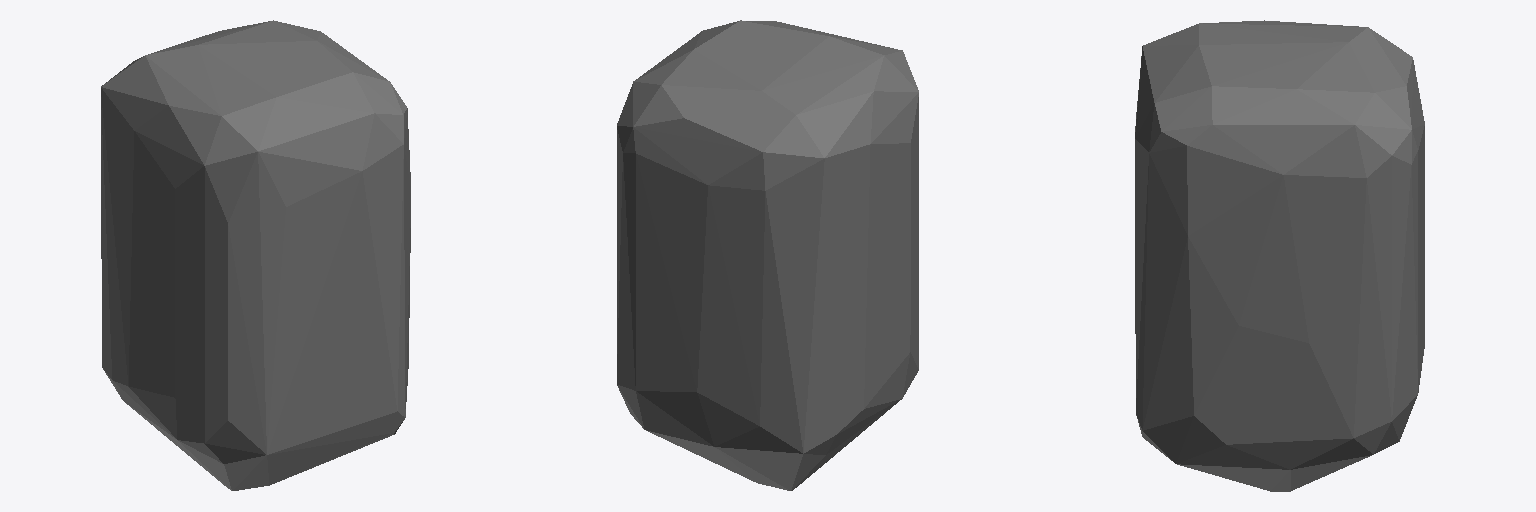
The robot description file, URDF, robot "toy_005":
<?xml version="1.0" ?>
<robot name="toy_005">
  <material name="color">
    <color rgba=".5 .5 .5 1"/>
  </material>

  <link name="base_link">
    <contact>
      <lateral_friction value="1.0"/>
      <rolling_friction value="0.001"/>
      <spinning_friction value="0.001"/>
      <inertia_scaling value="1.0"/>
    </contact>
    <inertial>
      <origin rpy="0 0 0" xyz="9.9687e-05 -0.000126288 0.0769841"/>
       <mass value="0.1"/>
       <inertia ixx="1" ixy="0" ixz="0" iyy="1" iyz="0" izz="1"/>
    </inertial>

    <visual>
      <origin rpy="0 0 0" xyz="0 0 0"/>
      <geometry>
        <mesh filename="toy_005_vhacd_0_of_1.obj" scale="1 1 1"/>
      </geometry>
      <material name="color"/>
    </visual>

    <collision>
      <origin rpy="0 0 0" xyz="0 0 0"/>
      <geometry>
        <mesh filename="toy_005_vhacd_0_of_1.obj" scale="1 1 1"/>
      </geometry>
    </collision>

  </link>
</robot>

--- What the picture shows (computed from the rendered views, not written in the file) ---
3 views of the same robot in one strip: view 1: azimuth 30°, elevation 25°; view 2: azimuth 150°, elevation 25°; view 3: azimuth 270°, elevation 25° (orthographic).
Model toy_005 with 1 links and 0 joints (none), rooted at base_link, posed all joints at 0.
Links seen in each view (by area): view 1: base_link; view 2: base_link; view 3: base_link.
Boxes of the visible links, x1,y1,x2,y2 form: base_link: (101,20,410,490); base_link: (617,20,918,490); base_link: (1135,20,1424,491).
Bounding box of the posed robot: 0.0482 × 0.0518 × 0.0853 m (x, y, z).
Meshes: 1 distinct files referenced, 1 mesh visuals loaded (1 OBJ).